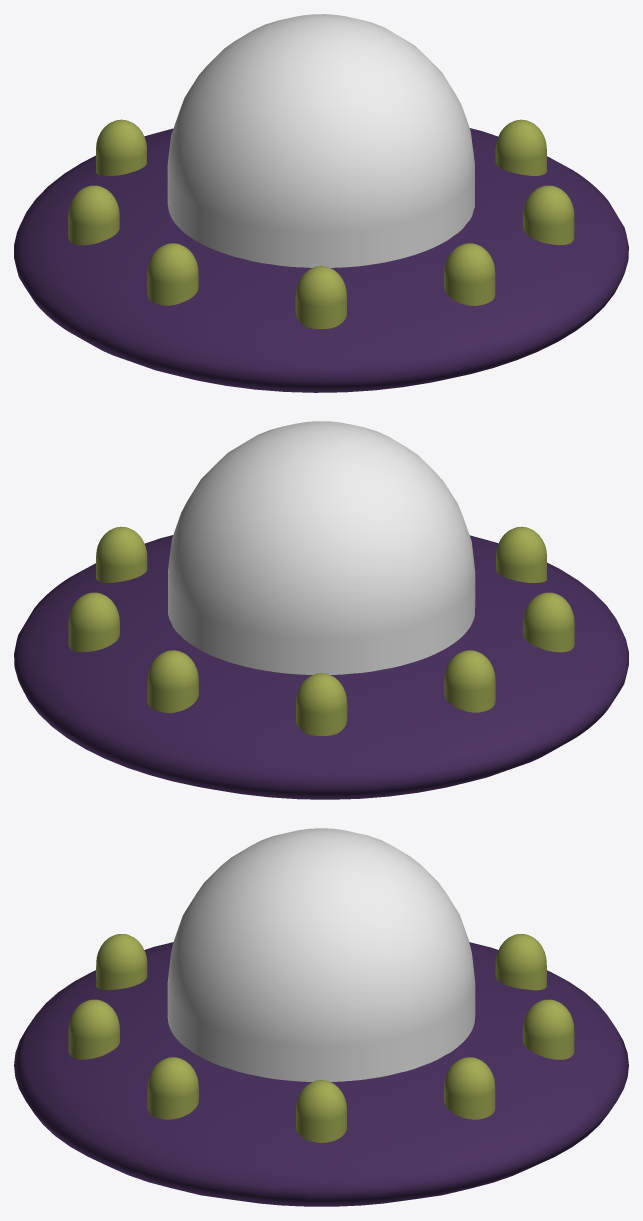
The model's file is SimpleUFOShip_material 1.fbx.
The picture shows the model from 3 angles, top to bottom: view 1: azimuth 30°, elevation 25°; view 2: azimuth 150°, elevation 25°; view 3: azimuth 270°, elevation 25°; orthographic projection.
Parts seen in each view (by area): view 1: Base, Cockpit, PlayerShip; view 2: Base, Cockpit, PlayerShip; view 3: Base, Cockpit, PlayerShip.
Part boxes in pixels (box(x1,y1,x2,y2)): Base: box(14, 128, 628, 392); Cockpit: box(167, 14, 474, 267); PlayerShip: box(68, 119, 574, 328); Base: box(14, 535, 628, 799); Cockpit: box(168, 421, 475, 674); PlayerShip: box(68, 526, 574, 736); Base: box(14, 942, 628, 1206); Cockpit: box(167, 828, 475, 1081); PlayerShip: box(68, 934, 574, 1142).
Size of the model in its own units: 610 by 305 by 610.
